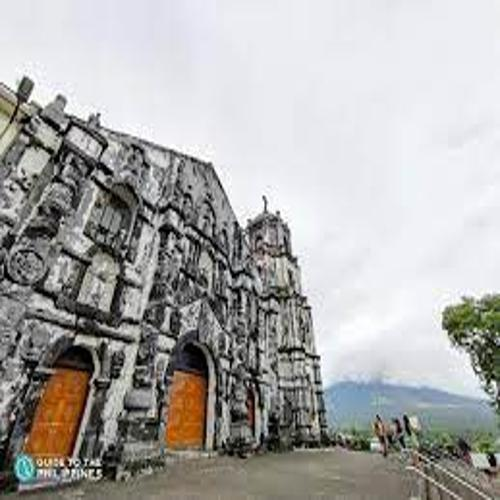Daraga Church: (3, 66, 335, 472)
